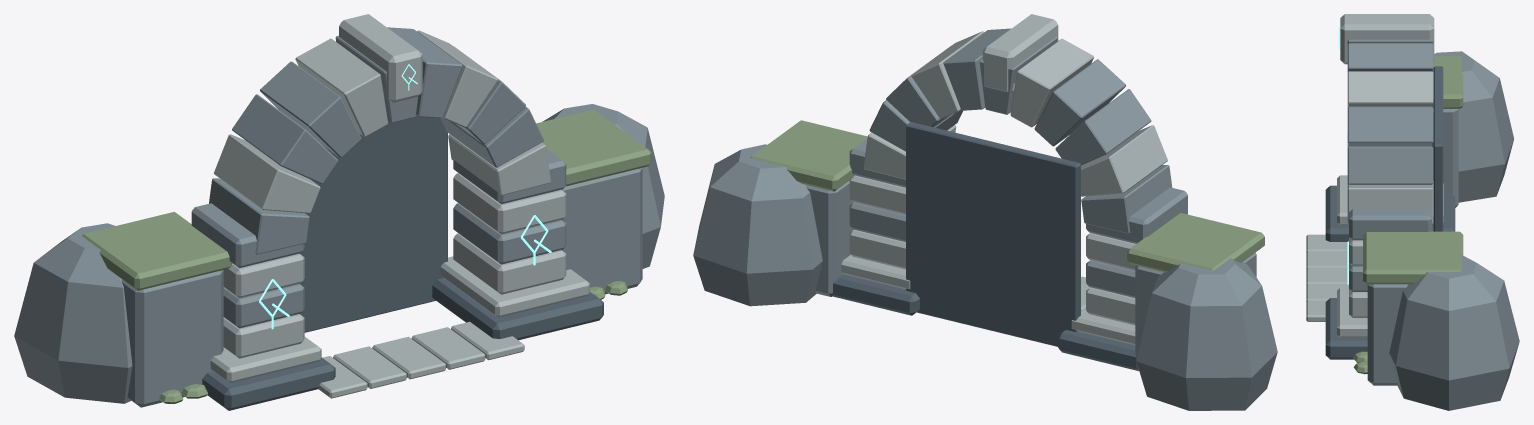
Rendered from runewood_dungeon_entrance.glb.
3 renders of one model, left to right at view 1: azimuth 30°, elevation 25°; view 2: azimuth 150°, elevation 25°; view 3: azimuth 270°, elevation 25°, orthographic. The views are drawn at different scales.
Parts seen in each view (by area): view 1: runewood_dungeon_entrance_Geometry; view 2: runewood_dungeon_entrance_Geometry; view 3: runewood_dungeon_entrance_Geometry.
Boxes of the visible parts, x1=… form: runewood_dungeon_entrance_Geometry: x1=14, y1=14, x2=664, y2=410; runewood_dungeon_entrance_Geometry: x1=693, y1=14, x2=1277, y2=410; runewood_dungeon_entrance_Geometry: x1=1306, y1=14, x2=1519, y2=410.
Size of the model in its own units: 9.64 by 4.47 by 3.29.
